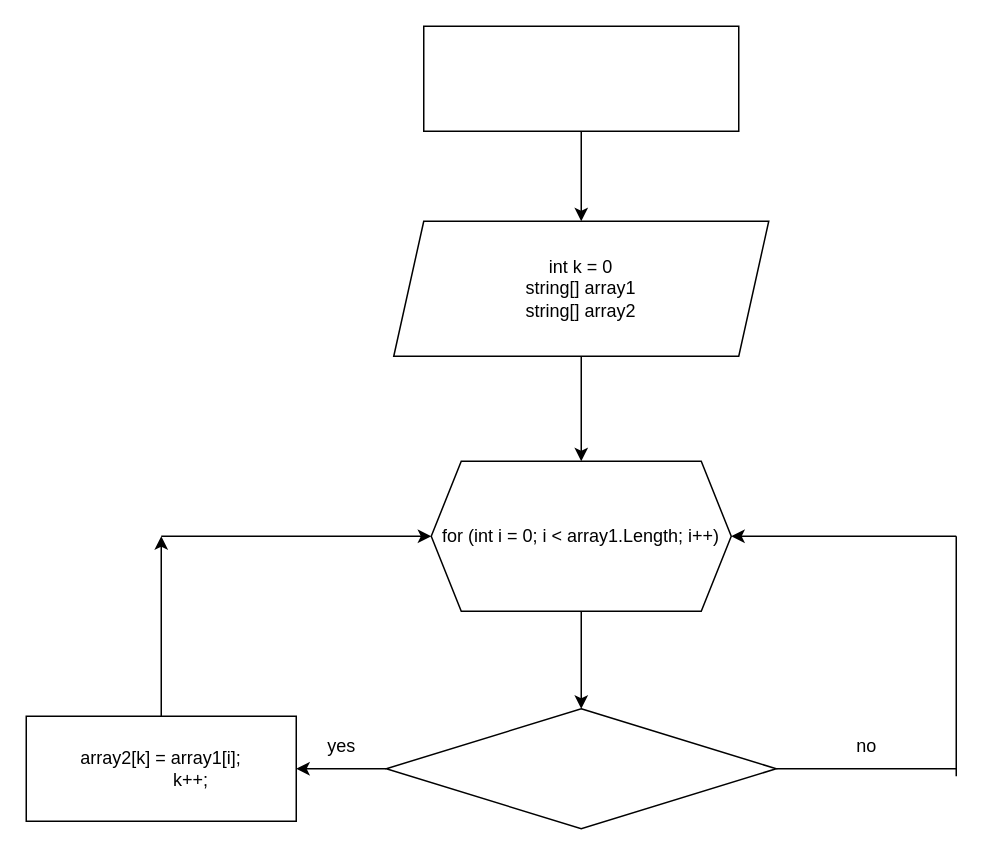
Image size: 995x855. Some labels were removed from this diagram. Here are the shapes that lost their labels. From the top down, the centre of each, then its label:
At point 580,78: "void newArrayWords(string[] array1, string[] array2)".
At point 580,768: "if (array1[i].Length <= 3)".
